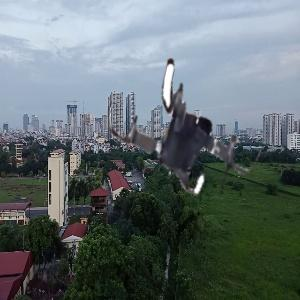drone: (105, 39, 275, 209)
